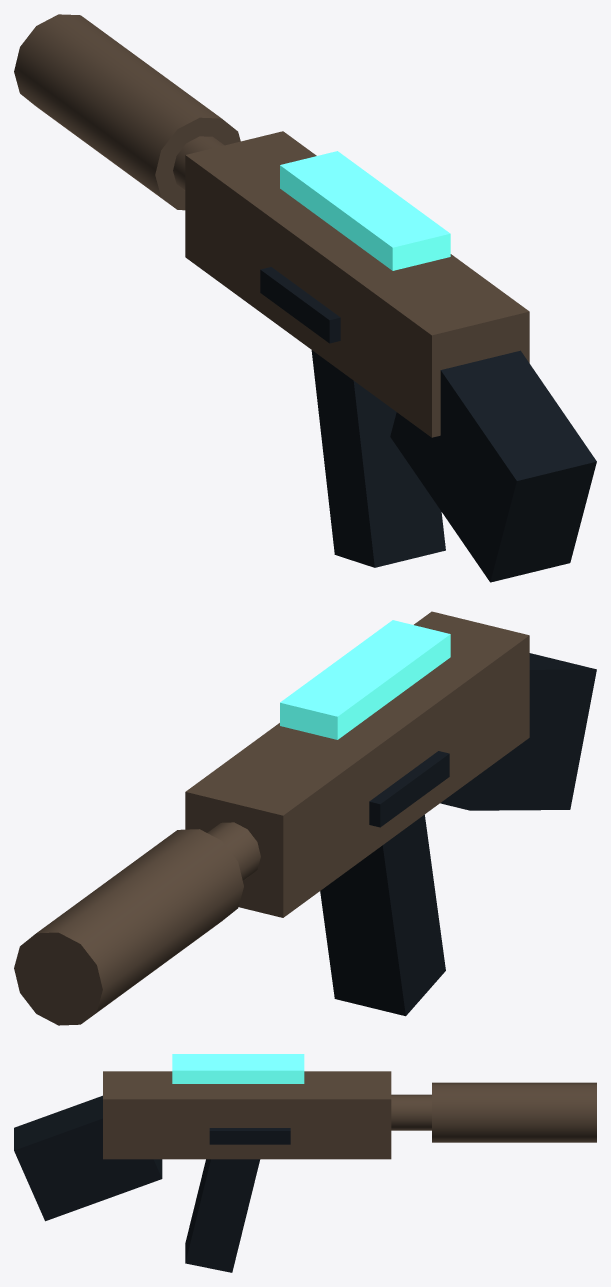
Rendered from breach-8.glb.
3 views of the same model, one above another, from view 1: azimuth 30°, elevation 25°; view 2: azimuth 150°, elevation 25°; view 3: azimuth 270°, elevation 25° (orthographic). The views are drawn at different scales.
Parts seen in each view (by area): view 1: breach-8; view 2: breach-8; view 3: breach-8.
Boxes of the visible parts, x1,y1,x2,y2 form: breach-8: [14, 14, 596, 582]; breach-8: [14, 611, 596, 1025]; breach-8: [14, 1054, 596, 1272].
Bounding box in the file's own units: 0.27 × 0.7372 × 1.94.
